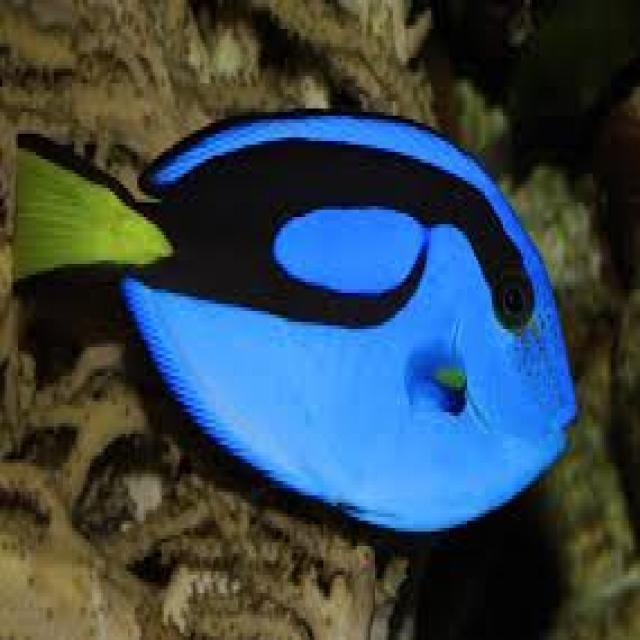TangFish: (9, 105, 578, 544)
